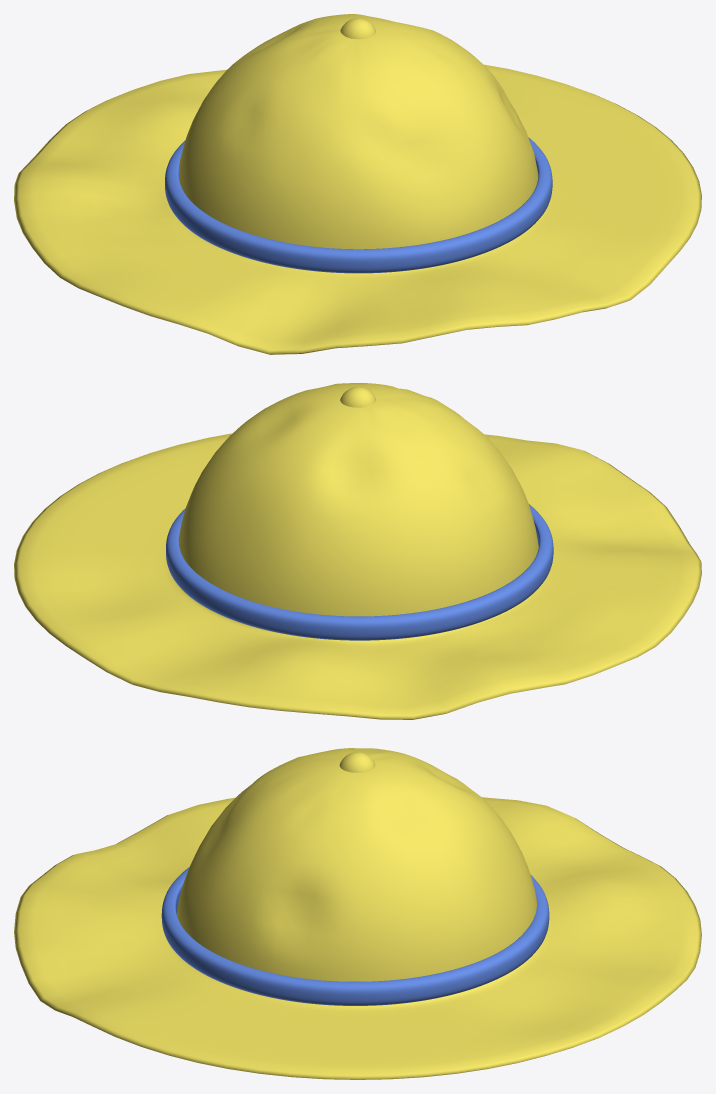
File: Straw hat.glb
3 renders of one model, top to bottom at view 1: azimuth 30°, elevation 25°; view 2: azimuth 150°, elevation 25°; view 3: azimuth 270°, elevation 25°, orthographic.
Parts seen in each view (by area): view 1: hat, Band, Topdot; view 2: hat, Band, Topdot; view 3: hat, Band, Topdot.
Boxes of the visible parts, x1=… form: hat: x1=14, y1=14, x2=701, y2=354; Band: x1=165, y1=137, x2=552, y2=273; Topdot: x1=340, y1=18, x2=375, y2=39; hat: x1=14, y1=383, x2=701, y2=719; Band: x1=166, y1=504, x2=553, y2=640; Topdot: x1=340, y1=387, x2=375, y2=407; hat: x1=14, y1=748, x2=701, y2=1079; Band: x1=161, y1=867, x2=549, y2=1005; Topdot: x1=339, y1=752, x2=375, y2=772.
Bounding box in the file's own units: 1.49 × 0.4735 × 1.49.
